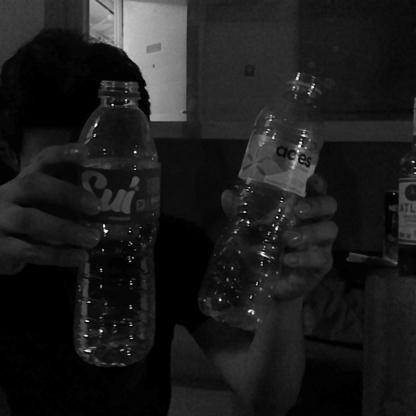plastic_bottles: (197, 72, 331, 332), (70, 78, 155, 372)
